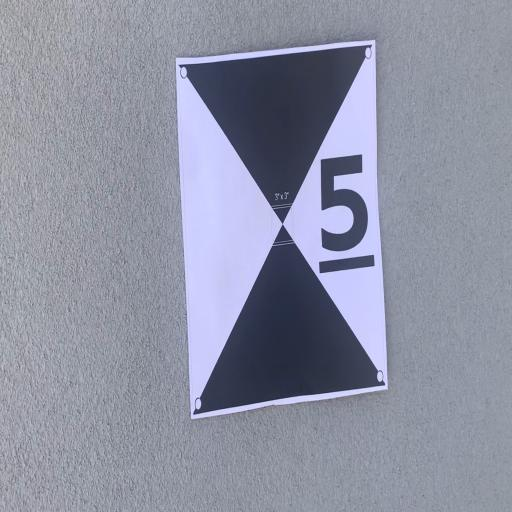target5: (175, 41, 390, 422)
